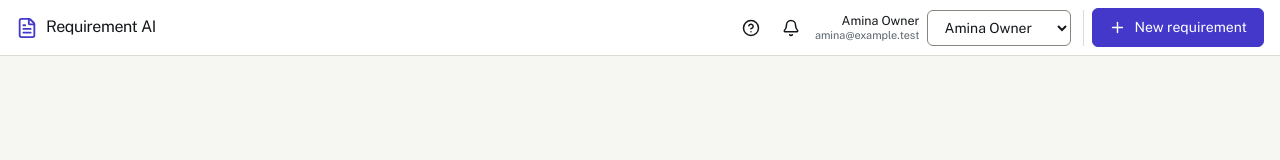
loads fake identity and switches persona without navigating away
The width and height of the screenshot is (1280, 160).
Expected: the text "Amina Owner" is shown, 842,13 -> 919,28
Select "Ravi Reviewer" in the dropdown. click: (1000, 28)
box: 928,10 -> 1072,46
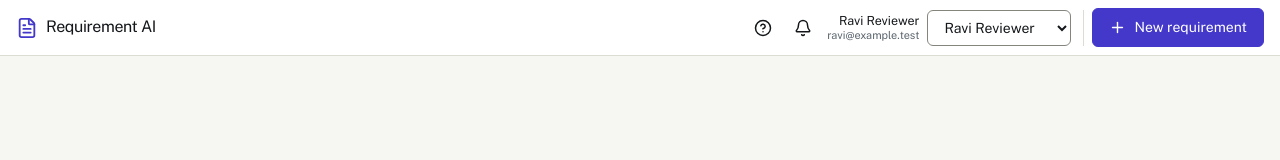
Expected: the text "Ravi Reviewer" is shown, 827,13 -> 920,28
